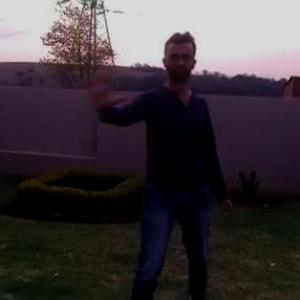follow_hand: (83, 67, 127, 112)
